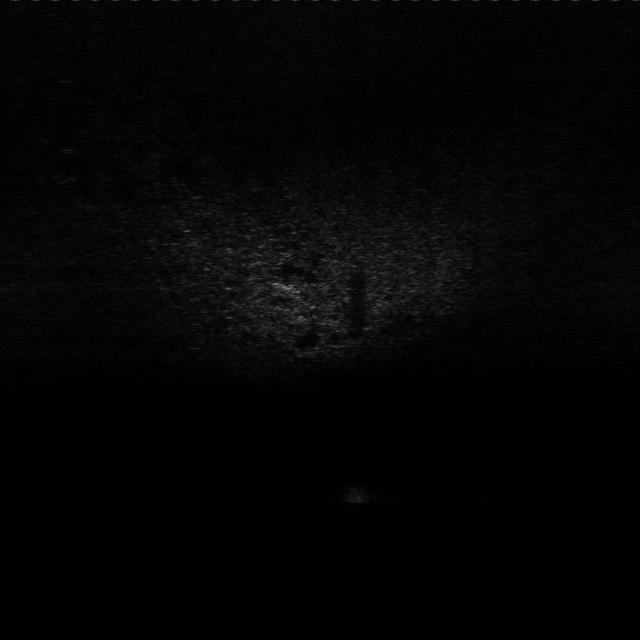cylinder: (347, 485, 374, 504)
